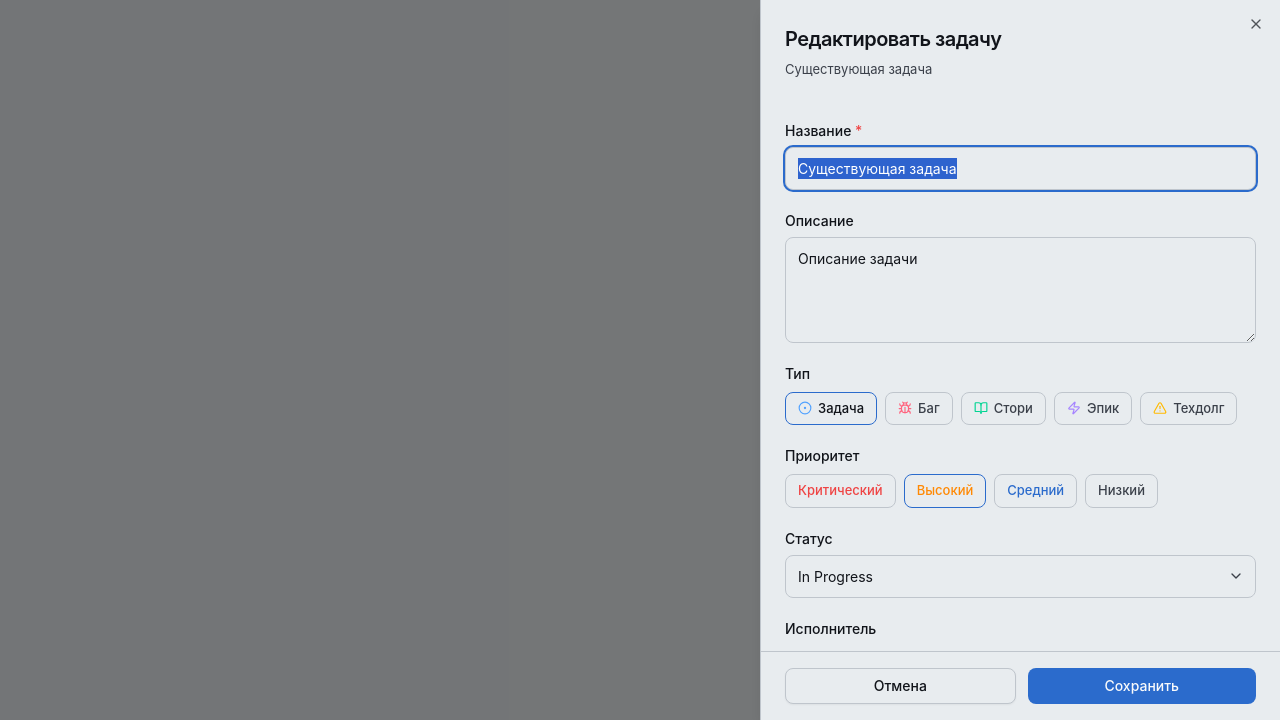
it: EditTaskDialog › кнопка сохранения заблокирована при пустом названии
Step 1. Clear the field with placeholder "Название задачи" → coordinates (1020, 168), box [785,146,1256,190]
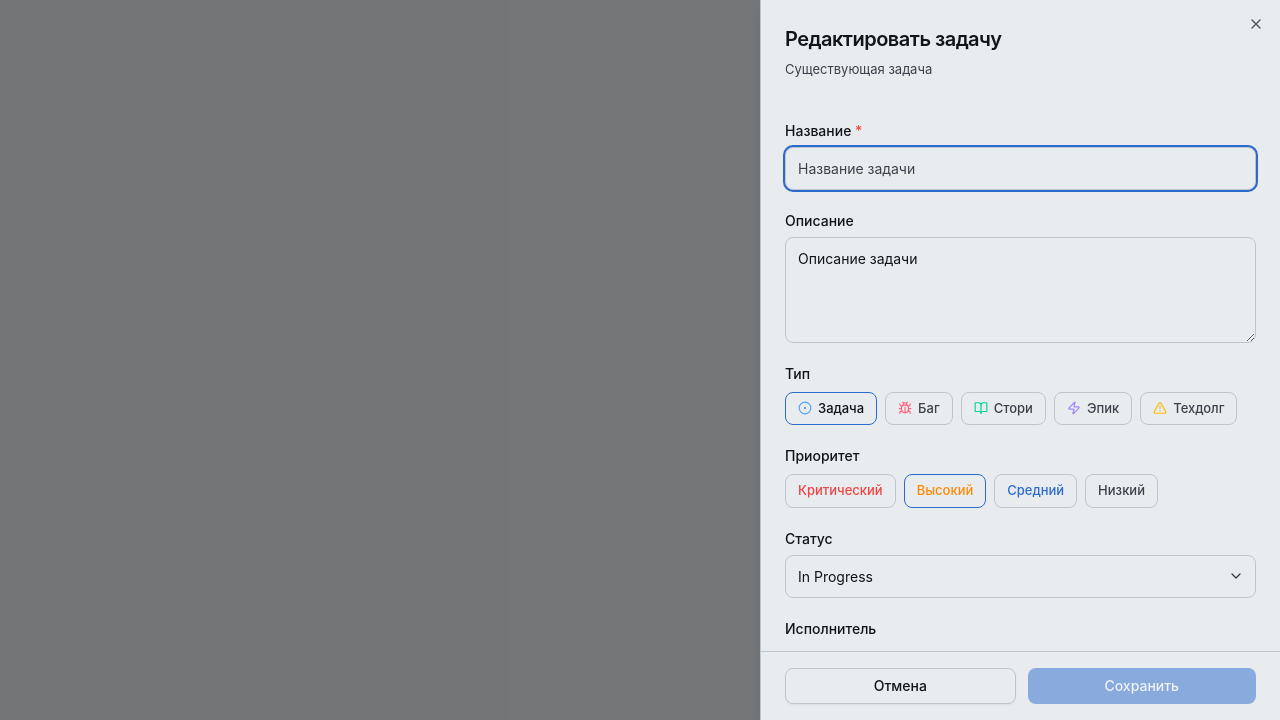
Expected: the button "Сохранить" is disabled, [1028,668,1256,704]
